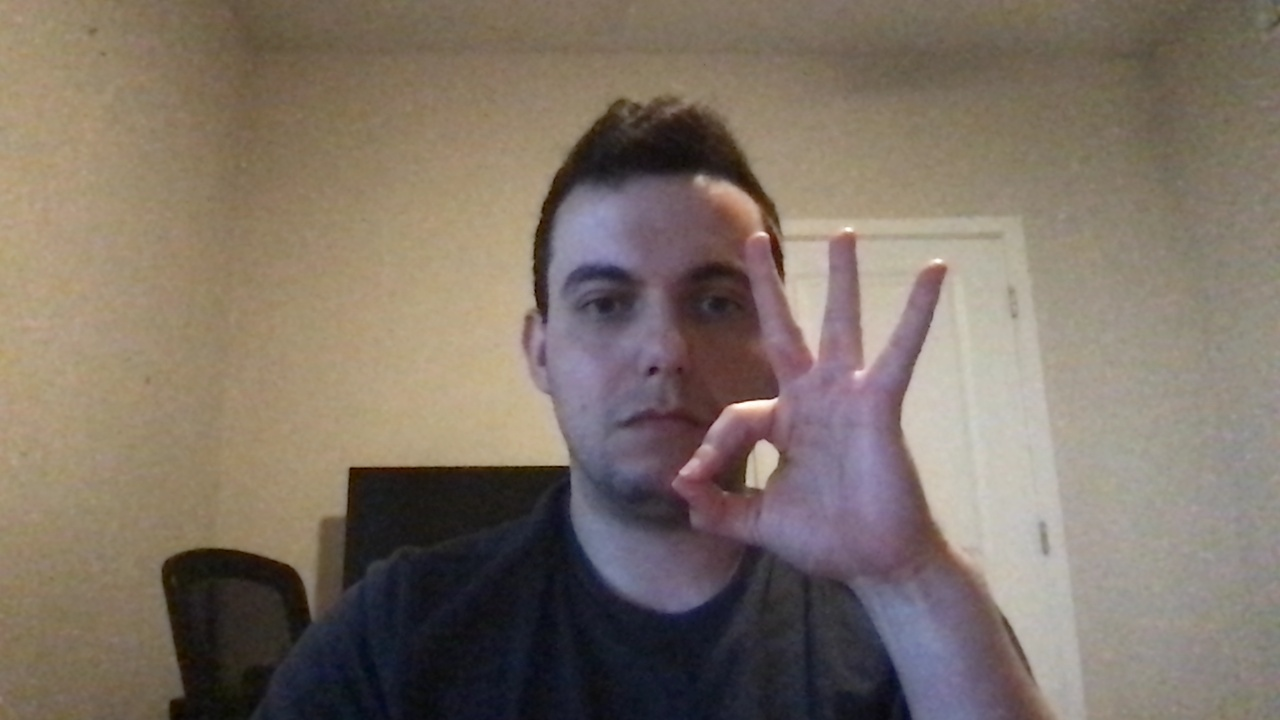f: (680, 214, 995, 585)
